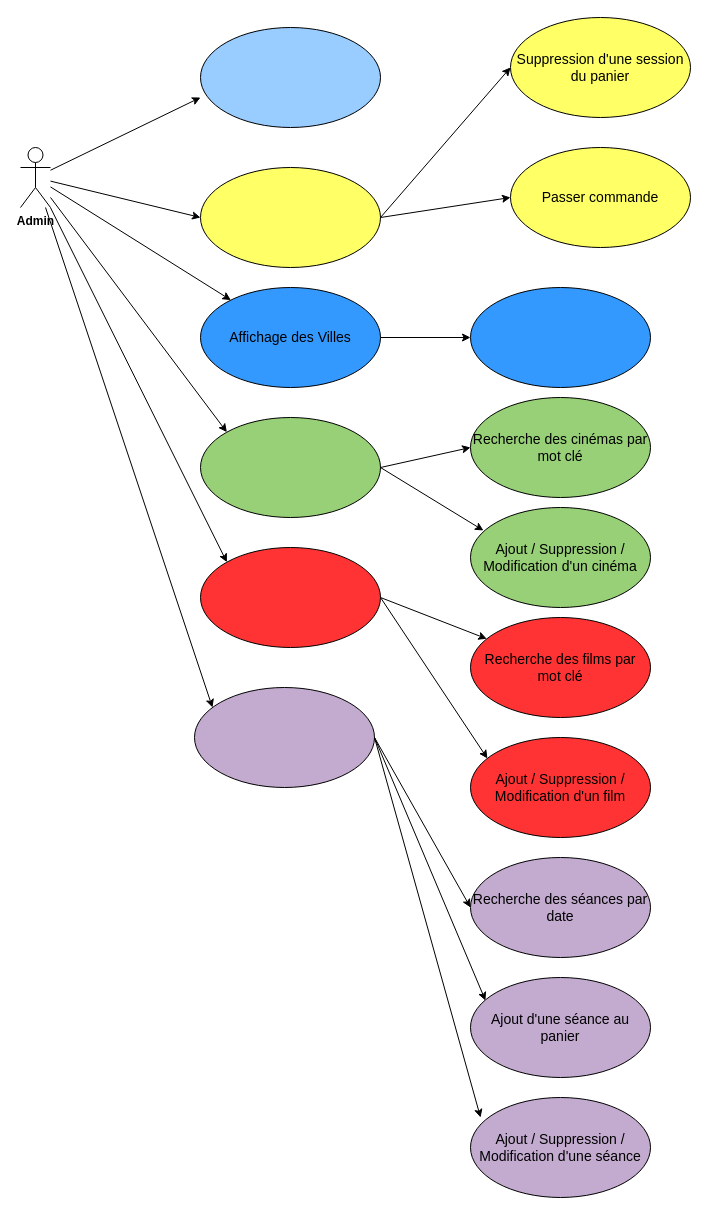
The diagram is 708 pixels wide and 1215 high, and some of its shapes have lost their labels. The centre of each missing label's shape, as x and y in pixels:
Affichage des films: the point at 290,597
Affichage des séances: the point at 284,737
Affichage des Ville / Cinema: the point at 290,467
Affichage du panier: the point at 290,217
Ajout / Suppression / Modification d'une ville: the point at 560,337
Se deconnecter: the point at 290,77
